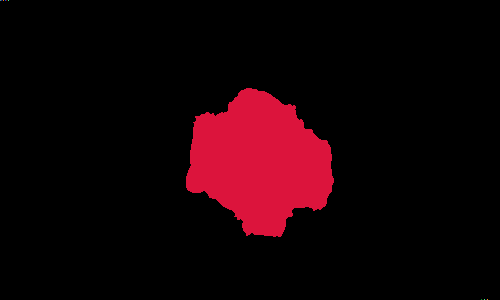toy: (179, 89, 330, 250)
